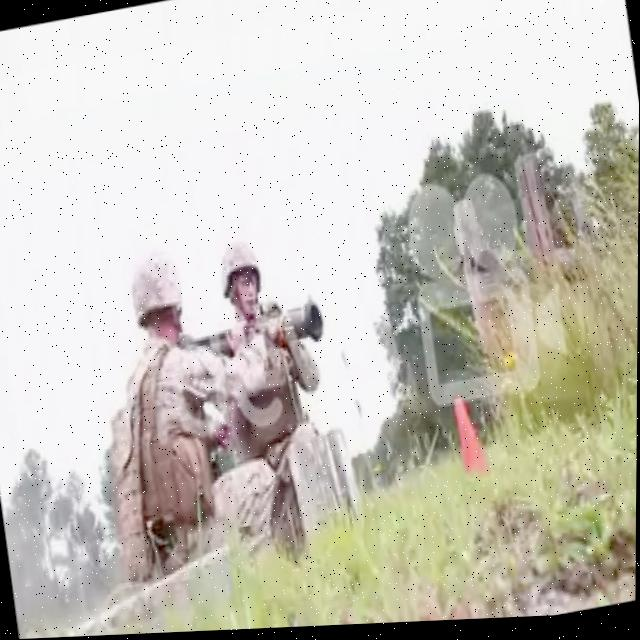rocket: (213, 300, 328, 364)
